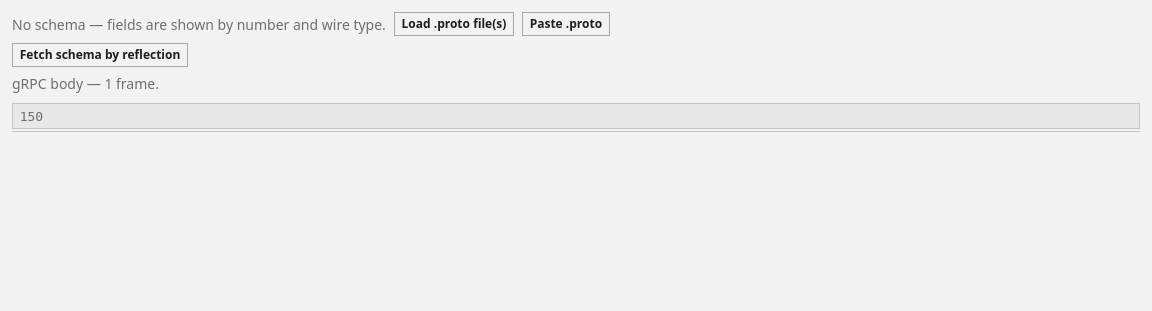
reflect-decode on the Protobuf tab › a refusal is shown and the schemaless view stays
The width and height of the screenshot is (1152, 311).
Step 1. Click the button "Fetch schema by reflection" → (100, 55), box left=12, top=43, right=188, bottom=67
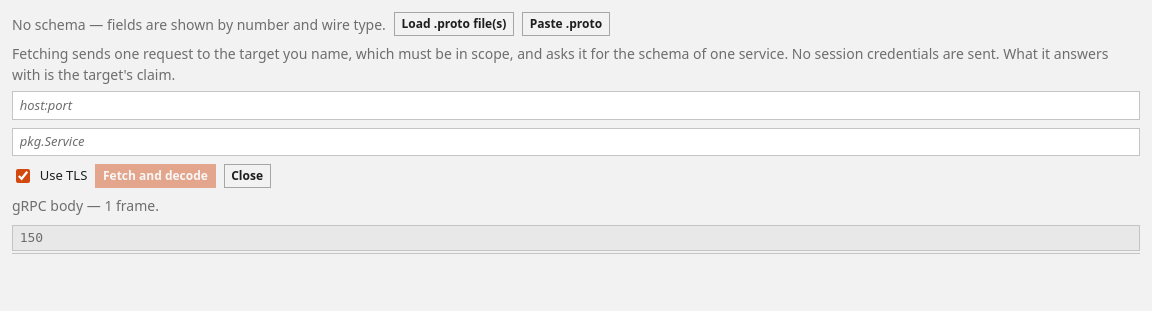
Step 2. Type "api.test:443" into the field named "Reflection target (host:port)" → (576, 106), box left=12, top=91, right=1140, bottom=120
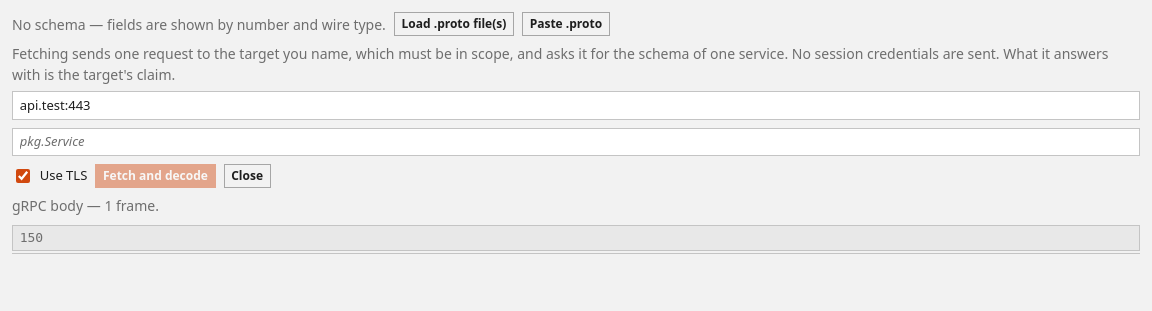
Step 3. Type "acme.v1.Users" into the field named "gRPC service" → (576, 142), box left=12, top=128, right=1140, bottom=156
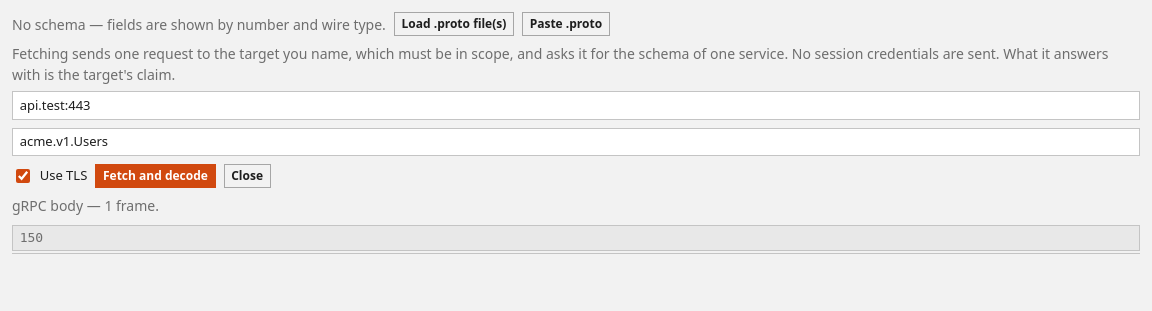
Step 4. Click the button "Fetch and decode" → (155, 176), box left=95, top=164, right=216, bottom=188
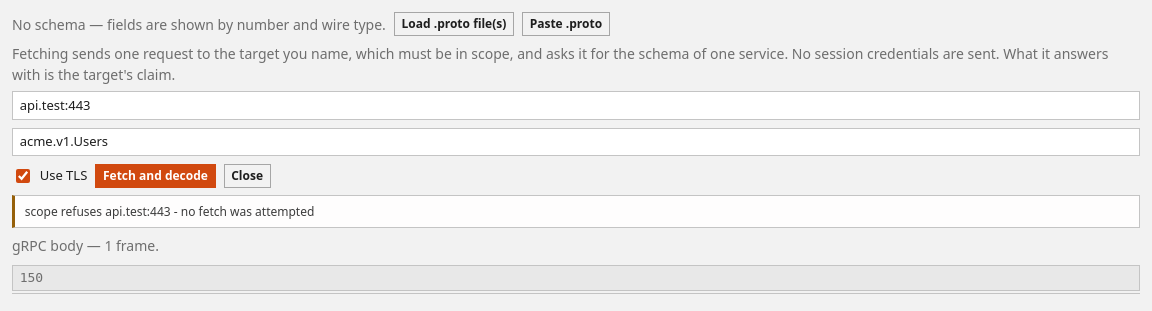
Expected: the field named "field 1 varint" is shown, left=12, top=264, right=1140, bottom=290
Result: the text "scope refuses api.test:443 - no fetch was attempted" is shown at left=12, top=195, right=1140, bottom=228
